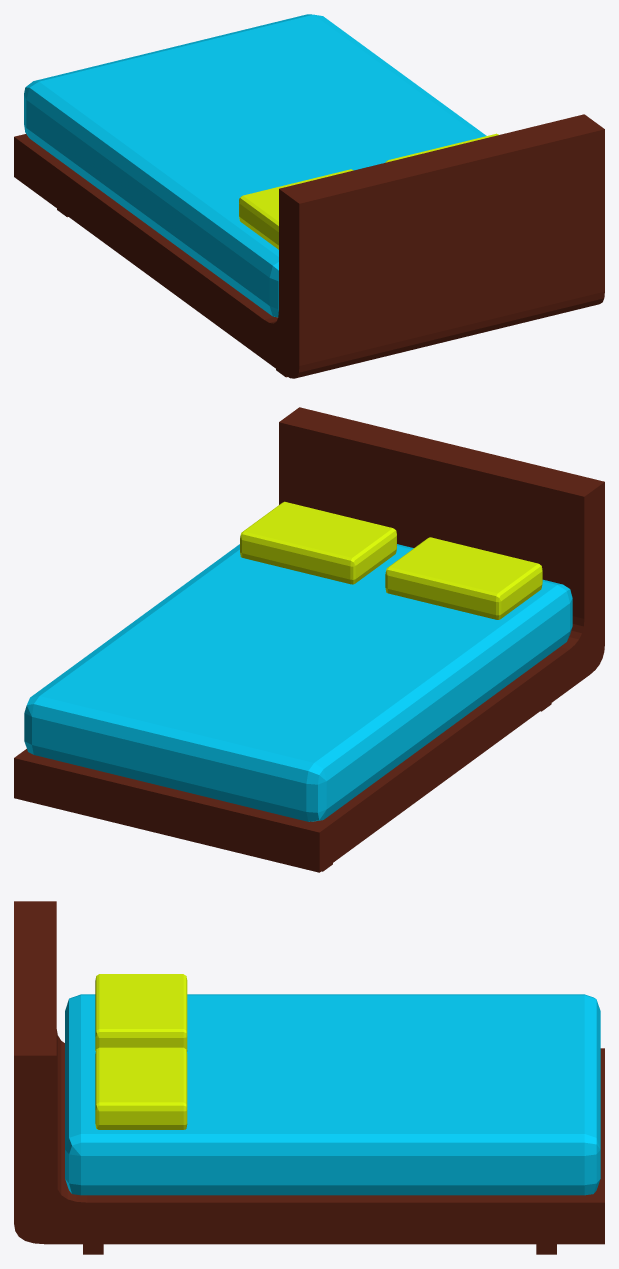
Rendered from Bed3.obj.
The picture shows the model from 3 angles, top to bottom: view 1: azimuth 30°, elevation 25°; view 2: azimuth 150°, elevation 25°; view 3: azimuth 270°, elevation 25°; orthographic projection. The views are drawn at different scales.
Parts seen in each view (by area): view 1: Box001, Box002, Box004; view 2: Box002, Box001, Box004, Box003; view 3: Box002, Box001, Box003, Box004.
Boxes of the visible parts, x1,y1,x2,y2 form: Box001: (14, 114, 604, 378); Box002: (24, 14, 486, 317); Box004: (239, 169, 353, 249); Box002: (24, 544, 572, 821); Box001: (14, 407, 604, 872); Box004: (385, 537, 542, 619); Box003: (240, 501, 396, 584); Box002: (65, 994, 600, 1195); Box001: (14, 901, 604, 1244); Box003: (95, 1047, 187, 1129); Box004: (95, 974, 187, 1051).
Size of the model in its own units: 337116 by 213932 by 545471.
